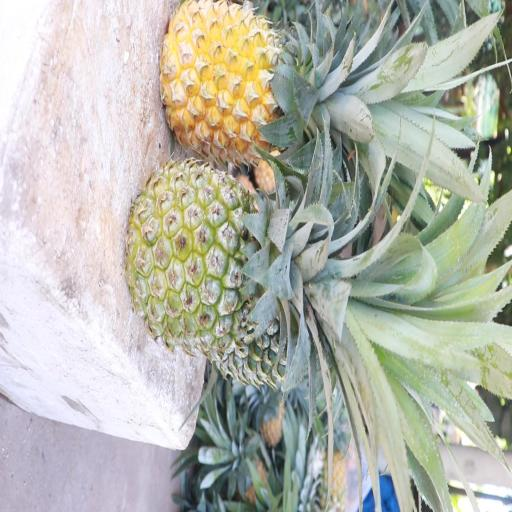------------------------------: (130, 168, 324, 342)
Pineapple - v8 v1: (162, 0, 327, 159)
